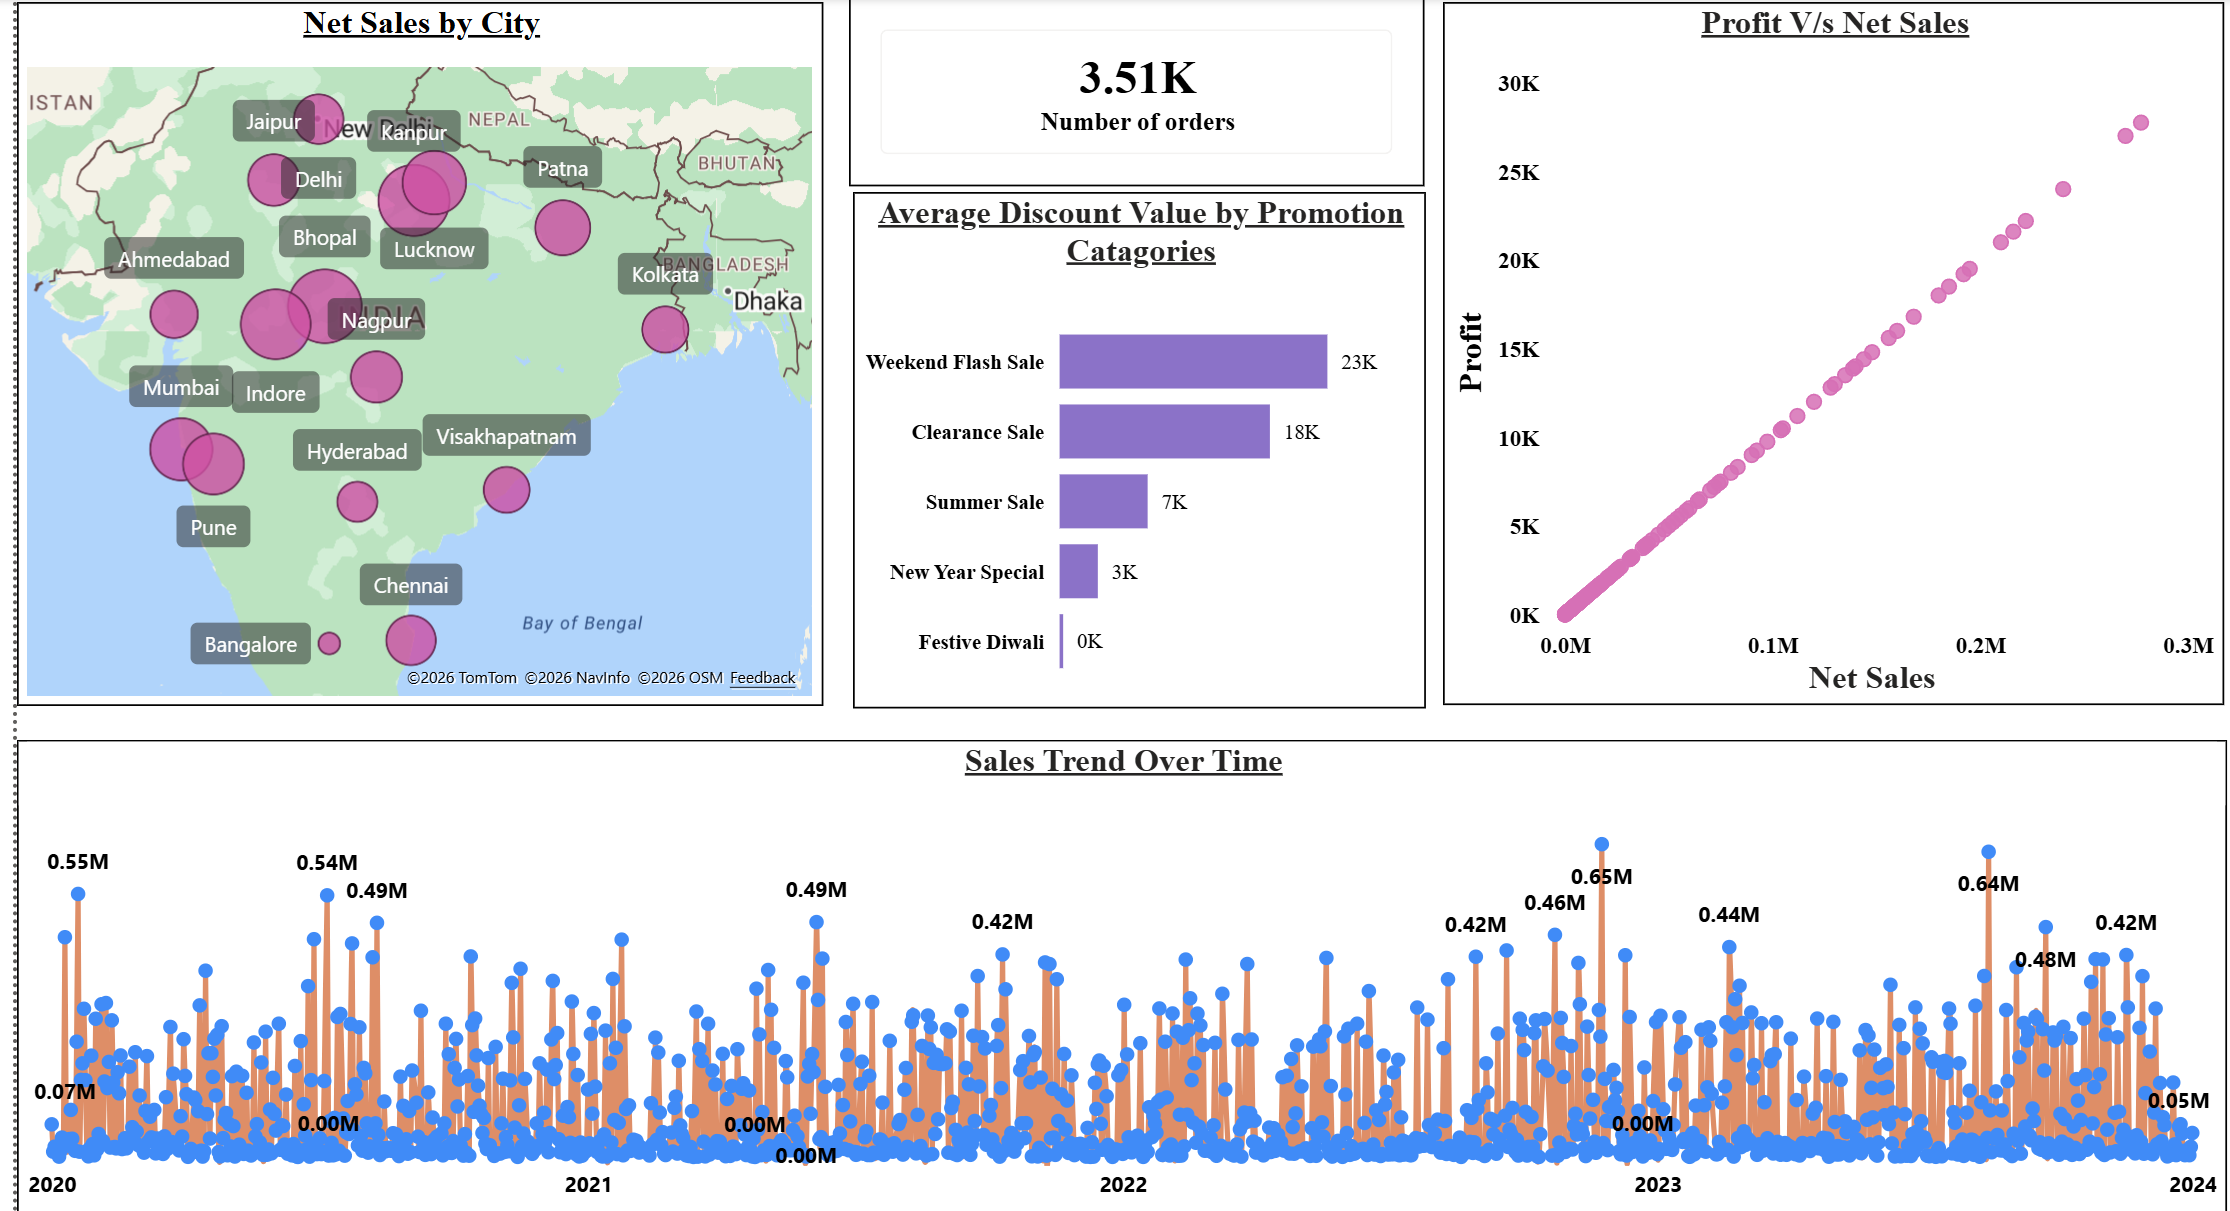

The page's visual inventory and layout, read from the dashboard file:
{"tool":"powerbi","page":{"name":"Overview","canvas":[1280,720],"ordinal":0},"visuals":[{"type":"lineChart","title":"Sales Trend Over Time","fields":{"Category":["Fact Table.Date (dd/mm/yyyy)"],"Y":["Sum(Fact Table.Net  Sales)"]},"box":[0,427.4,1273,275.3],"z":0},{"type":"scatterChart","title":"Profit V/s Net  Sales","fields":{"X":["Fact Table.Net  Sales"],"Y":["Fact Table.Profit"]},"box":[821.2,2.5,450,405],"z":1000},{"type":"barChart","title":"Average Discount Value by Promotion Catagories","fields":{"Category":["Dim Promotion.Promotion Name"],"Y":["Avg(Fact Table.Discount value)"]},"box":[481.2,111.2,330,297.5],"z":2000},{"type":"azureMap","fields":{"Category":["Dim Customers.City"],"Size":["Sum(Fact Table.Net  Sales)"]},"box":[0,2.3,464.3,405.5],"z":3000},{"type":"cardVisual","fields":{"Data":["Count(Fact Table.Order ID)"]},"box":[479.4,0,331.5,108.4],"z":4000}]}

Visuals, with their boxes in screenshot pixels (x1, y1, x2, y2):
"Sales Trend Over Time" lineChart: 17,737,2211,1210
"Profit V/s Net  Sales" scatterChart: 1433,4,2208,702
"Average Discount Value by Promotion Catagories" barChart: 847,192,1416,704
azureMap - Dim Customers.City x Sum(Fact Table.Net  Sales): 17,4,818,703
cardVisual - Count(Fact Table.Order ID): 844,0,1415,187
